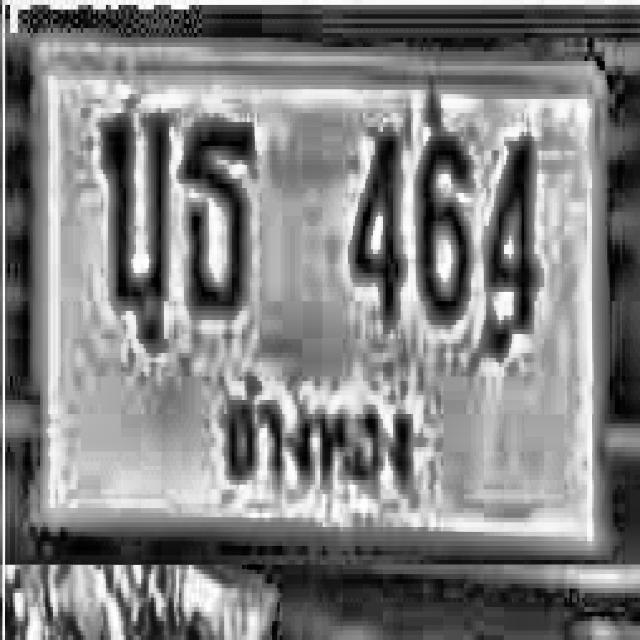license-plate: (25, 33, 613, 587)
